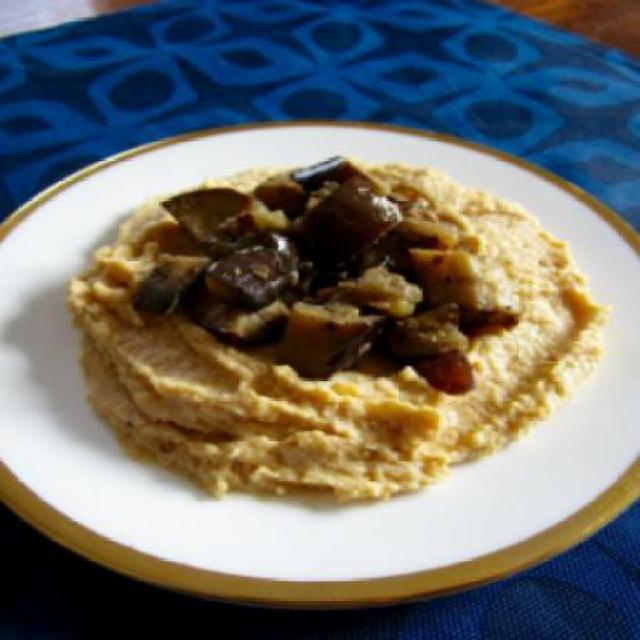eggplant: (134, 152, 486, 398)
hummus: (59, 146, 603, 505)
